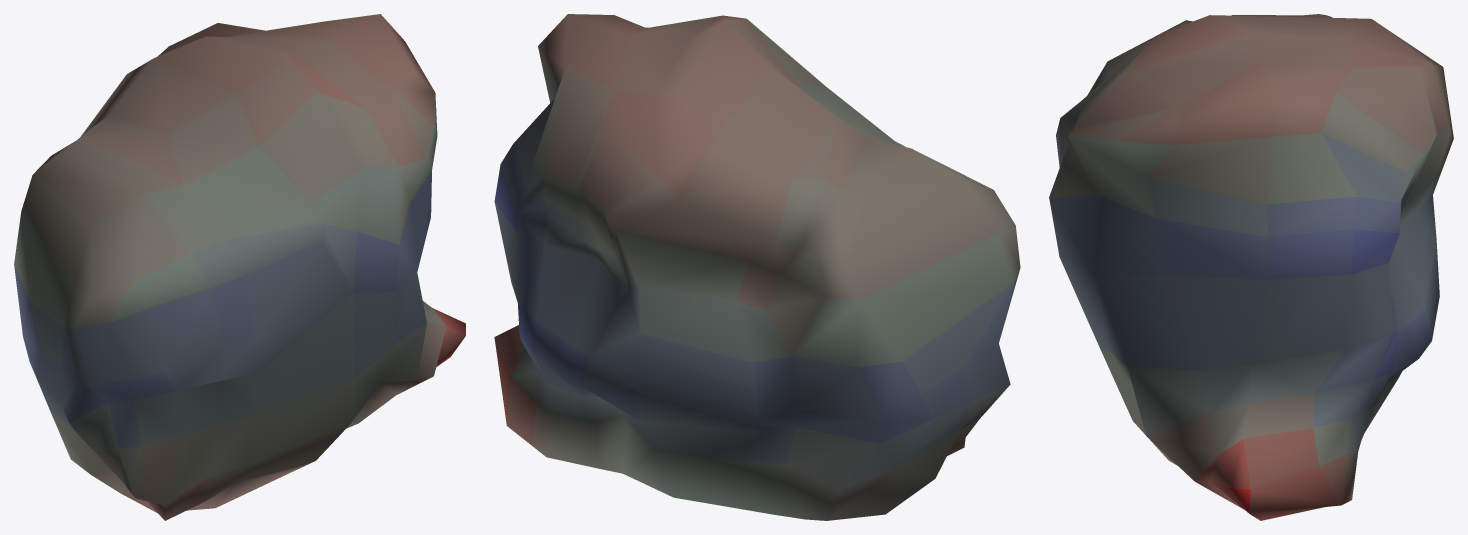
File: Asteroid_03_LP.fbx
3 views of the same model, side by side, from view 1: azimuth 30°, elevation 25°; view 2: azimuth 150°, elevation 25°; view 3: azimuth 270°, elevation 25° (orthographic). The views are drawn at different scales.
Parts seen in each view (by area): view 1: Asteroid_03_LP; view 2: Asteroid_03_LP; view 3: Asteroid_03_LP.
Boxes of the visible parts, x1,y1,x2,y2 form: Asteroid_03_LP: (14, 14, 465, 520); Asteroid_03_LP: (494, 14, 1020, 520); Asteroid_03_LP: (1049, 14, 1453, 520).
Size of the model in its own units: 12.97 by 12.13 by 9.14.
